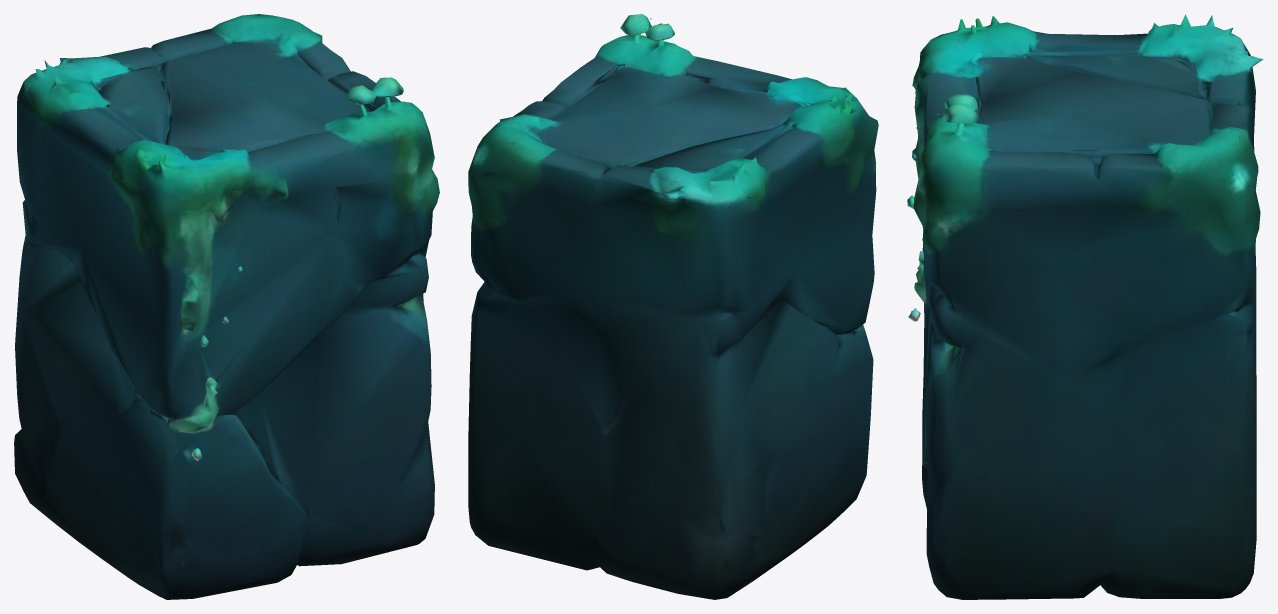
3 renders of one model, left to right at view 1: azimuth 30°, elevation 25°; view 2: azimuth 150°, elevation 25°; view 3: azimuth 270°, elevation 25°, orthographic. The views are drawn at different scales.
Parts seen in each view (by area): view 1: world; view 2: world; view 3: world.
Part boxes in pixels (x1,y1,x2,y2): world: (14,14,439,599); world: (468,14,878,599); world: (907,14,1263,599).
Bounding box in the file's own units: 0.6449 × 0.9993 × 0.6692.
1 material, 1 textured.
